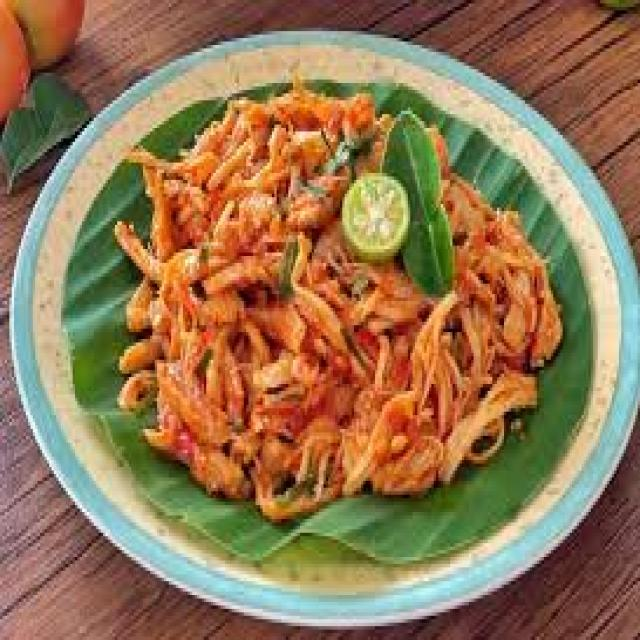ayam_suwir: (127, 88, 548, 507)
